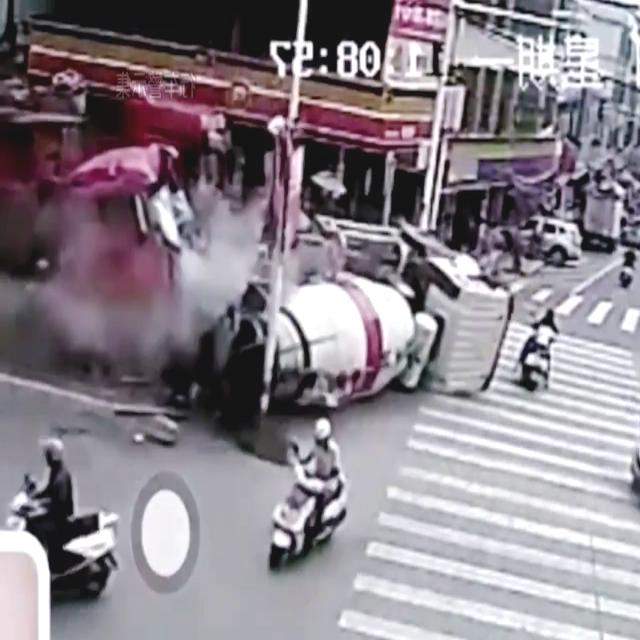accident: (0, 84, 518, 444)
non-accident: (476, 217, 586, 269)
